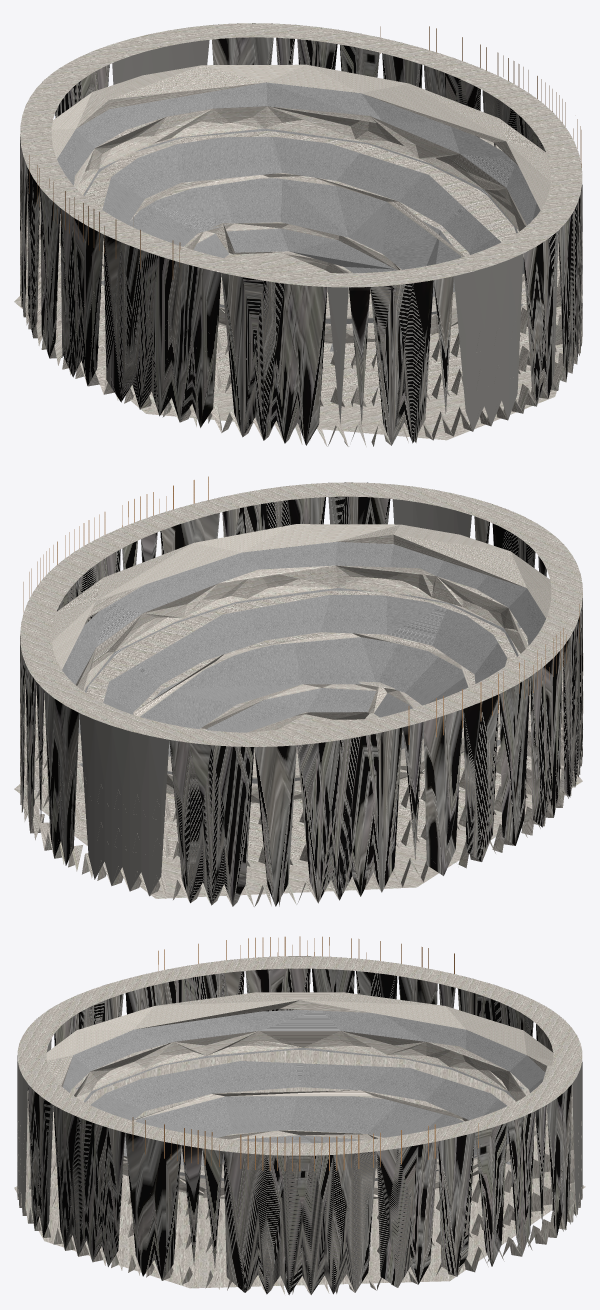
3 renders of one model, top to bottom at view 1: azimuth 30°, elevation 25°; view 2: azimuth 150°, elevation 25°; view 3: azimuth 270°, elevation 25°, orthographic. The views are drawn at different scales.
Parts seen in each view (by area): view 1: coliwo01_coliston_0, coliwo01_colifloo_0, coliwo01_colistg2_0, coliwo01_colbrown_0; view 2: coliwo01_coliston_0, coliwo01_colifloo_0, coliwo01_colistg2_0, coliwo01_colbrown_0; view 3: coliwo01_coliston_0, coliwo01_colifloo_0, coliwo01_colistg2_0, coliwo01_colbrown_0.
Part boxes in pixels (<box>): coliwo01_coliston_0: <box>20,23,582,445</box>; coliwo01_colifloo_0: <box>14,23,582,446</box>; coliwo01_colistg2_0: <box>57,82,540,351</box>; coliwo01_colbrown_0: <box>29,26,581,279</box>; coliwo01_coliston_0: <box>20,482,582,906</box>; coliwo01_colifloo_0: <box>14,482,583,906</box>; coliwo01_colistg2_0: <box>62,541,545,803</box>; coliwo01_colbrown_0: <box>23,476,579,744</box>; coliwo01_coliston_0: <box>17,956,582,1294</box>; coliwo01_colifloo_0: <box>14,956,585,1294</box>; coliwo01_colistg2_0: <box>62,1010,545,1180</box>; coliwo01_colbrown_0: <box>132,936,478,1171</box>.
Size of the model in its own units: 377 by 139 by 455.
Materials: 5 (5 with a texture image).
